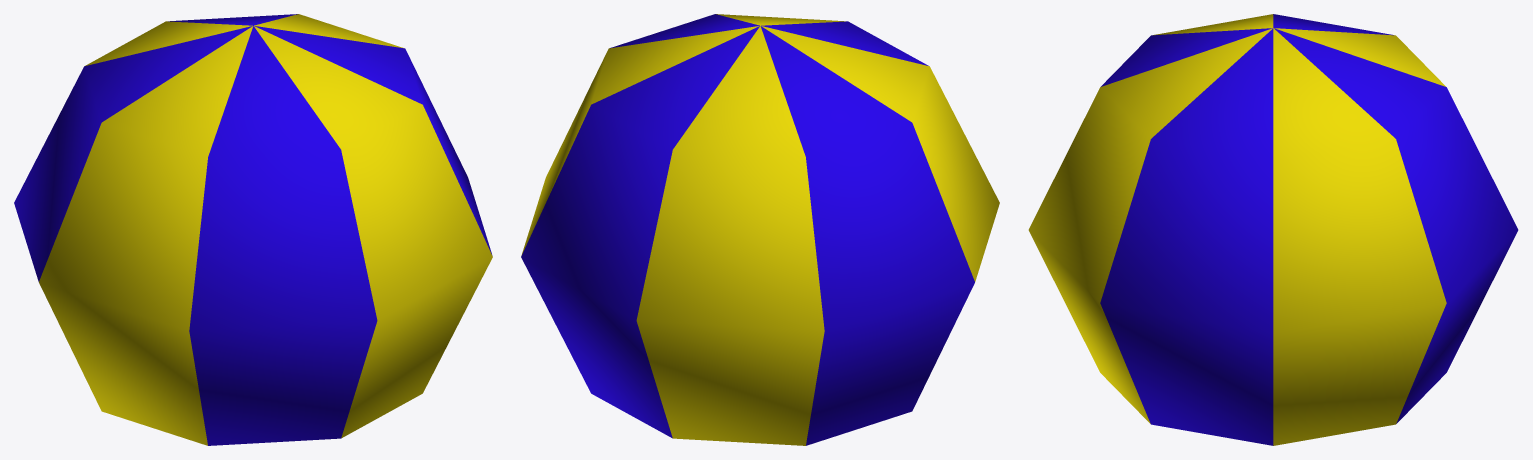
File: beachball.glb
The picture shows the model from 3 angles, left to right: view 1: azimuth 30°, elevation 25°; view 2: azimuth 150°, elevation 25°; view 3: azimuth 270°, elevation 25°; orthographic projection.
Visible parts, largest first — view 1: Sphere; view 2: Sphere; view 3: Sphere.
Boxes of the visible parts, left/top/right/bottom form: Sphere: left=14, top=14, right=492, bottom=445; Sphere: left=521, top=14, right=999, bottom=445; Sphere: left=1028, top=14, right=1518, bottom=445.
Size of the model in its own units: 2.2 by 2 by 2.2.
